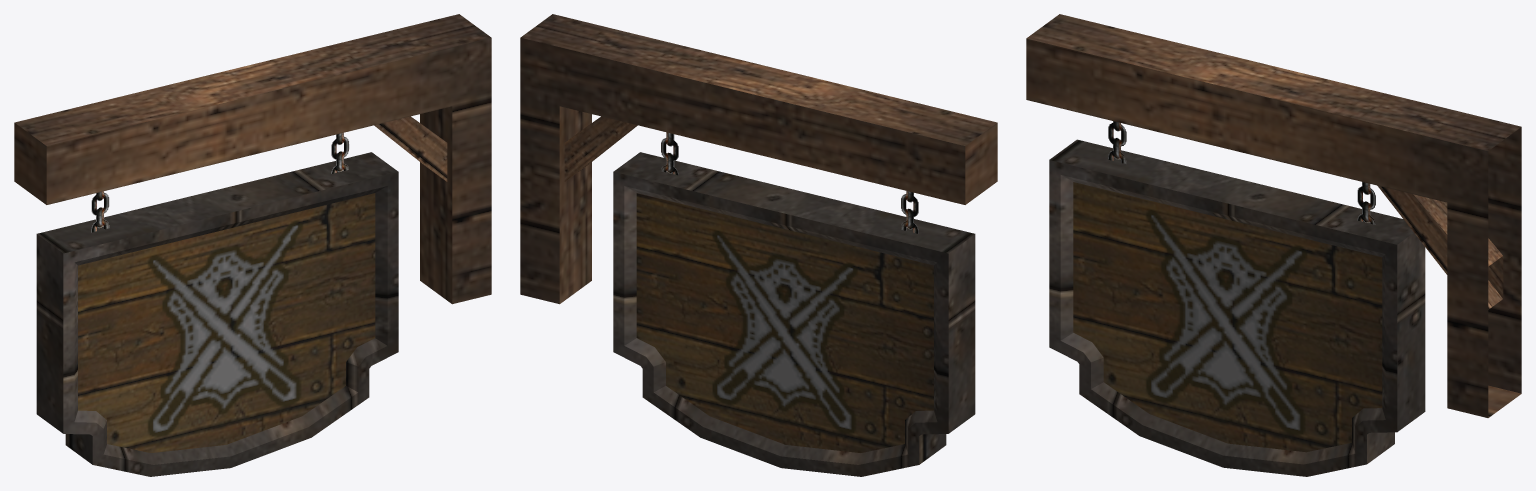
The model's file is singboard_1.fbx.
3 renders of one model, left to right at view 1: azimuth 30°, elevation 25°; view 2: azimuth 150°, elevation 25°; view 3: azimuth 330°, elevation 25°, orthographic. The views are drawn at different scales.
Visible parts, largest first — view 1: singboard_1; view 2: singboard_1; view 3: singboard_1.
Boxes of the visible parts, left/top/right/bottom form: singboard_1: left=14, top=14, right=491, bottom=476; singboard_1: left=520, top=14, right=997, bottom=476; singboard_1: left=1026, top=14, right=1521, bottom=476.
Size of the model in its own units: 2.4 by 1.91 by 0.3017.
